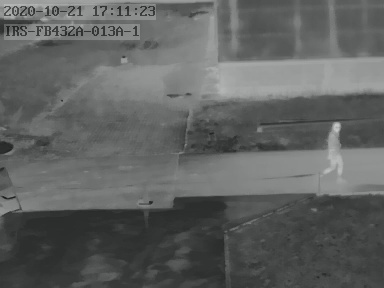person: (323, 119, 345, 177)
